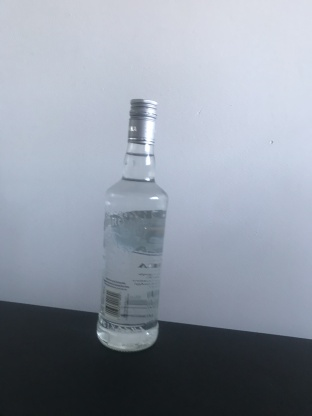nakretka: (126, 95, 158, 145)
